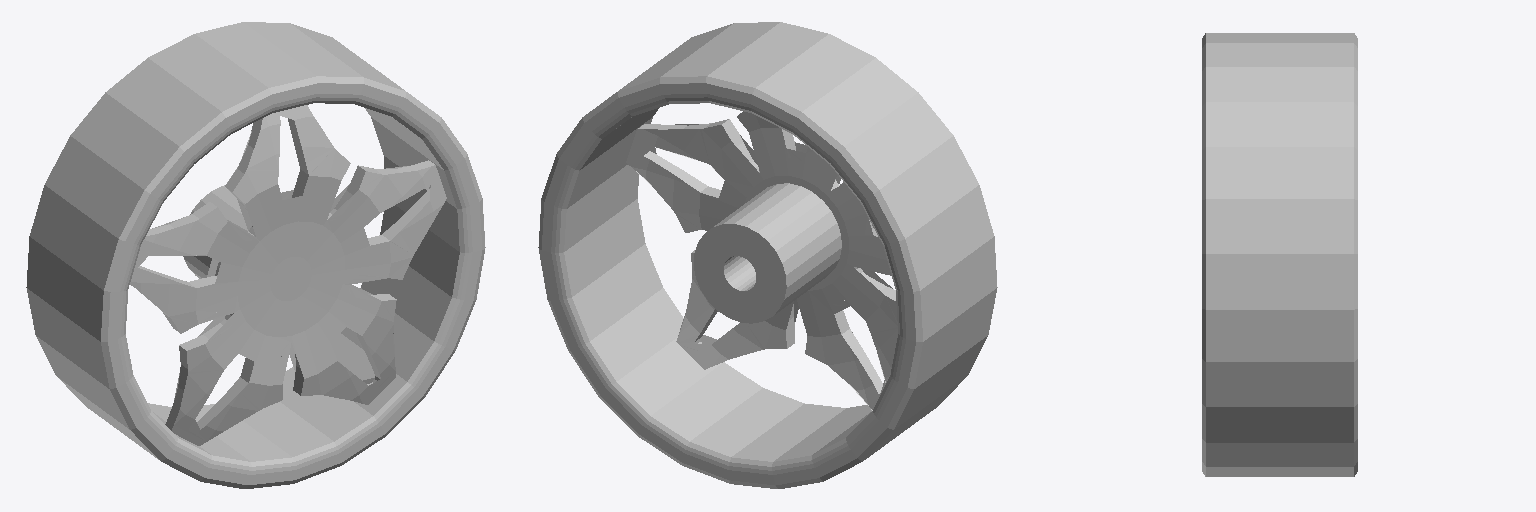
Rendered from llanta_tras_izq.obj.
3 views of the same model, side by side, from view 1: azimuth 30°, elevation 25°; view 2: azimuth 150°, elevation 25°; view 3: azimuth 270°, elevation 25° (orthographic).
Visible parts, largest first — view 1: car.058, car.057; view 2: car.058, car.057; view 3: car.058.
Part boxes in pixels (left/top/right/bottom): car.058: left=26, top=22, right=485, bottom=488; car.057: left=130, top=105, right=446, bottom=445; car.058: left=538, top=22, right=997, bottom=488; car.057: left=626, top=111, right=897, bottom=410; car.058: left=1202, top=33, right=1357, bottom=476.
Size of the model in its own units: 0.7794 by 0.7779 by 0.2746.